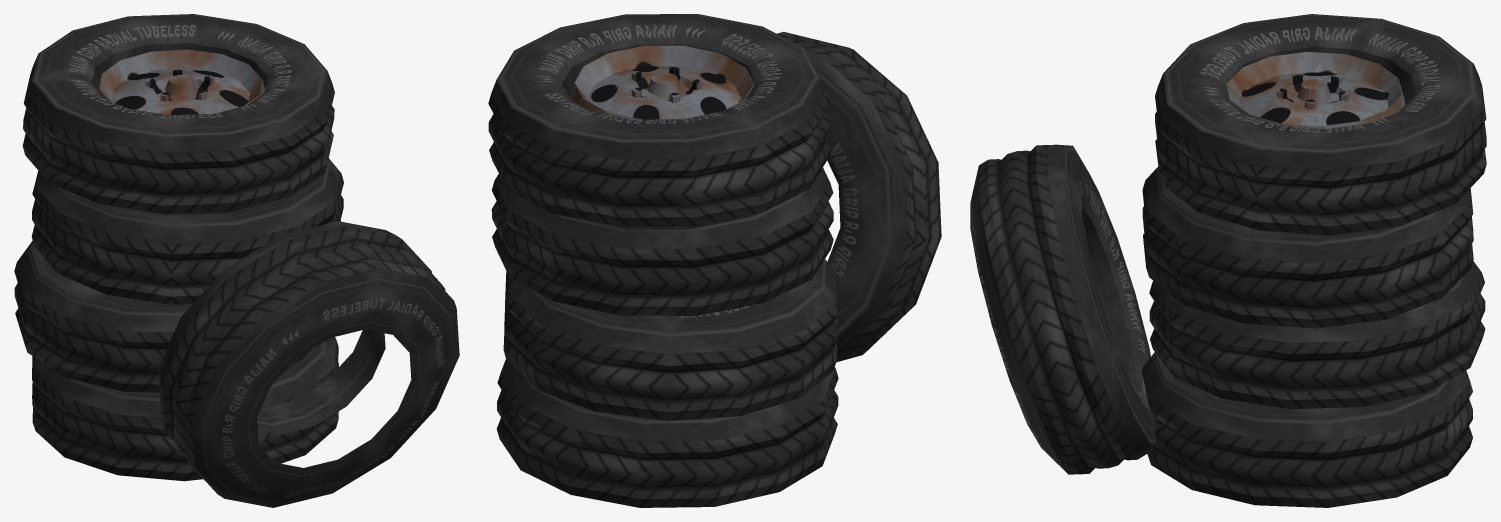
The model's file is env_tyrestack.glb.
3 renders of one model, left to right at view 1: azimuth 30°, elevation 25°; view 2: azimuth 150°, elevation 25°; view 3: azimuth 270°, elevation 25°, orthographic. The views are drawn at different scales.
Parts seen in each view (by area): view 1: env_tyrestack_body; view 2: env_tyrestack_body; view 3: env_tyrestack_body.
Part boxes in pixels (x1,y1,x2,y2): env_tyrestack_body: (14,14,459,507); env_tyrestack_body: (488,14,941,507); env_tyrestack_body: (970,14,1486,507).
Bounding box in the file's own units: 0.7166 × 0.8434 × 1.03.
Materials: 1 (1 with a texture image).
